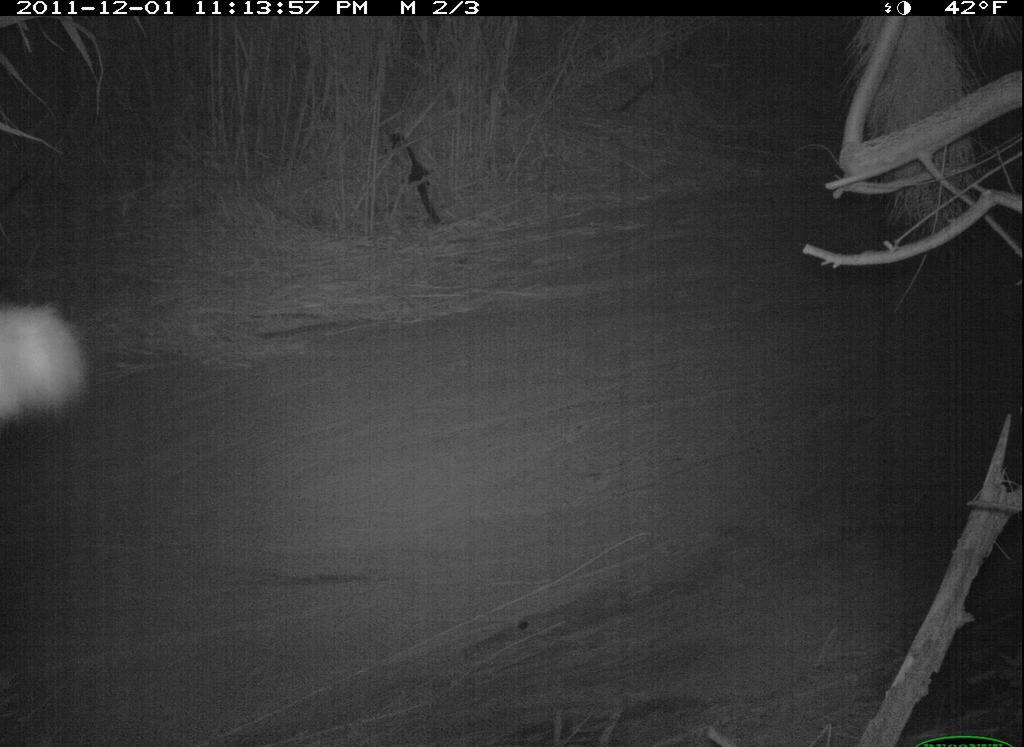raccoon: (1, 301, 86, 425)
